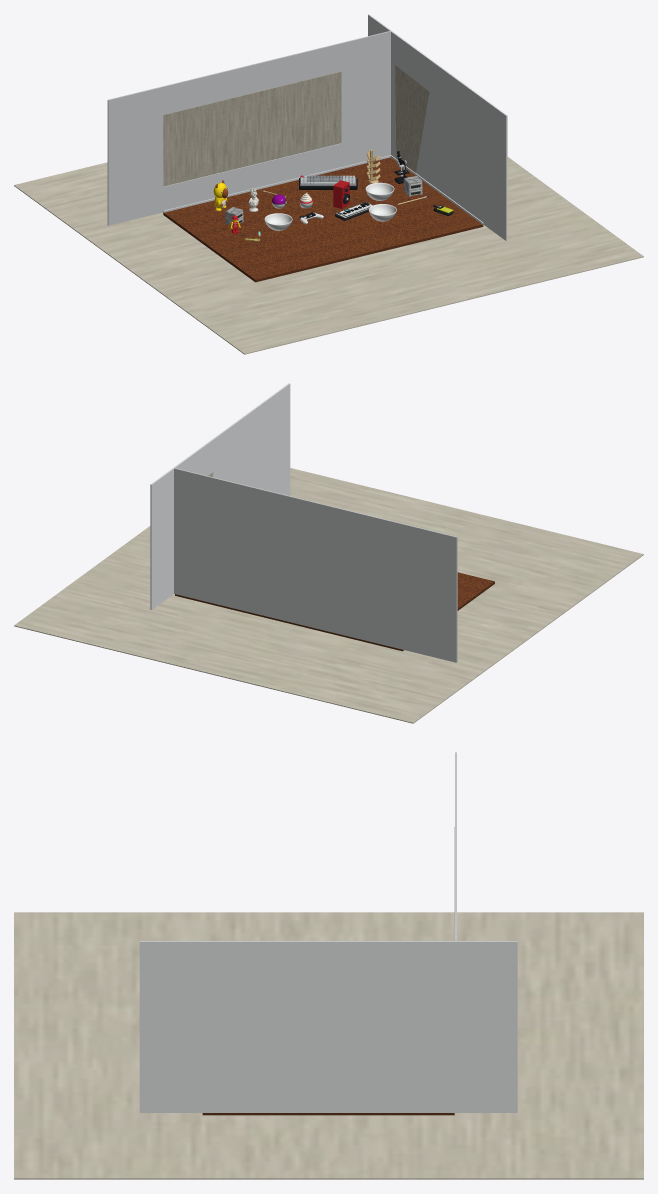
Rendered from codex.glb.
The picture shows the model from 3 angles, top to bottom: view 1: azimuth 30°, elevation 25°; view 2: azimuth 150°, elevation 25°; view 3: azimuth 270°, elevation 25°; orthographic projection. The views are drawn at different scales.
Parts seen in each view (by area): view 1: Floor below tabletop, Rear plaster wall, Rear wood inset, Right plaster wall, Right vertical wood inset, Solid thick desk, Rear skirting, Walnut tabletop board.025, Walnut tabletop board.010; view 2: Floor below tabletop, Rear plaster wall, Right plaster wall, Solid thick desk; view 3: Floor below tabletop, Right plaster wall, Solid thick desk.
Boxes of the visible parts, x1=… form: Floor below tabletop: x1=14, y1=157, x2=643, y2=354; Rear plaster wall: x1=107, y1=31, x2=390, y2=225; Rear wood inset: x1=163, y1=71, x2=341, y2=186; Right plaster wall: x1=368, y1=14, x2=507, y2=240; Right vertical wood inset: x1=395, y1=65, x2=429, y2=172; Solid thick desk: x1=163, y1=213, x2=483, y2=282; Rear skirting: x1=163, y1=155, x2=390, y2=212; Walnut tabletop board.025: x1=221, y1=235, x2=305, y2=258; Walnut tabletop board.010: x1=238, y1=248, x2=322, y2=271; Floor below tabletop: x1=14, y1=468, x2=643, y2=723; Rear plaster wall: x1=174, y1=468, x2=457, y2=662; Right plaster wall: x1=150, y1=383, x2=290, y2=609; Solid thick desk: x1=175, y1=582, x2=494, y2=651; Floor below tabletop: x1=14, y1=912, x2=643, y2=1179; Right plaster wall: x1=139, y1=941, x2=517, y2=1112; Solid thick desk: x1=202, y1=1113, x2=454, y2=1115.
Bounding box in the file's own units: 60 × 18.67 × 60.
198 materials, 171 textured.
